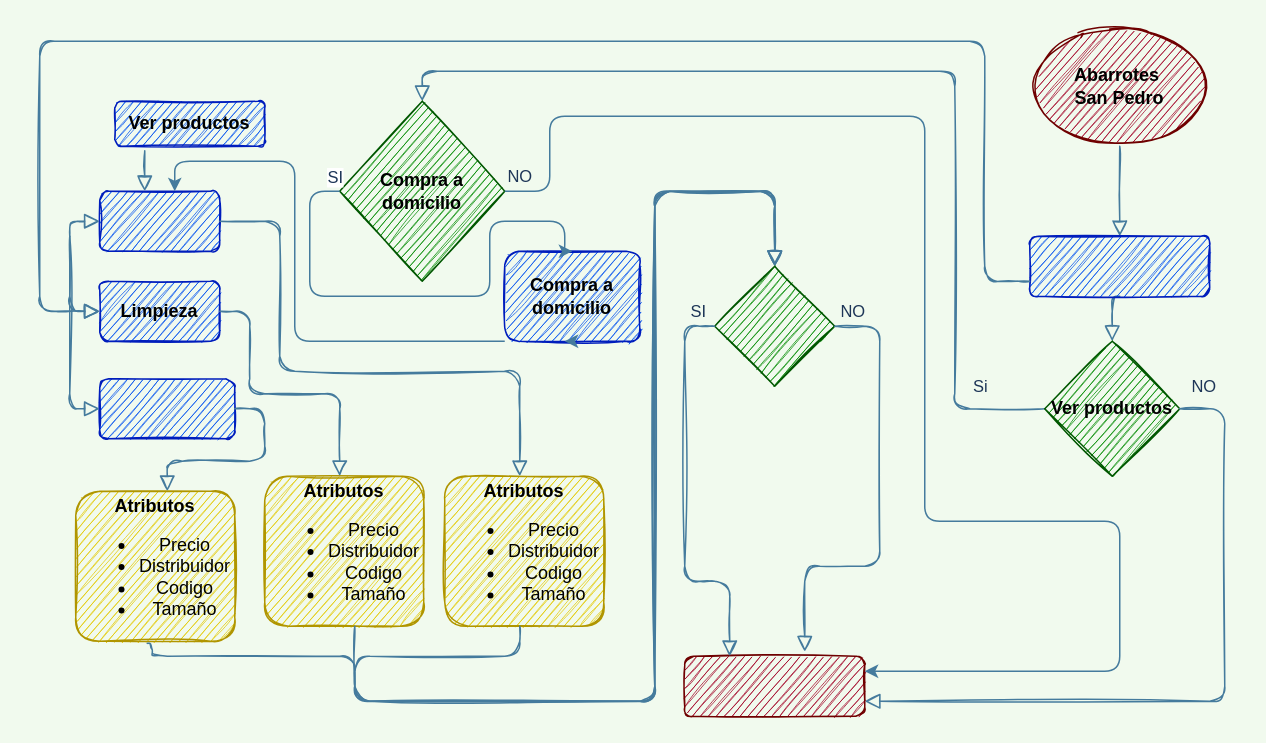
This 1266x743 diagram has some shape labels left out. The shapes that lost their labels are listed below. From the top down, each one's box as (x1, y1, x2, y2) in pixels, then its label:
(98, 190, 220, 251): Latas
(1028, 235, 1210, 296): Productos
(713, 265, 835, 386): Comprar
(98, 377, 235, 439): Botana
(683, 655, 865, 716): Fin
